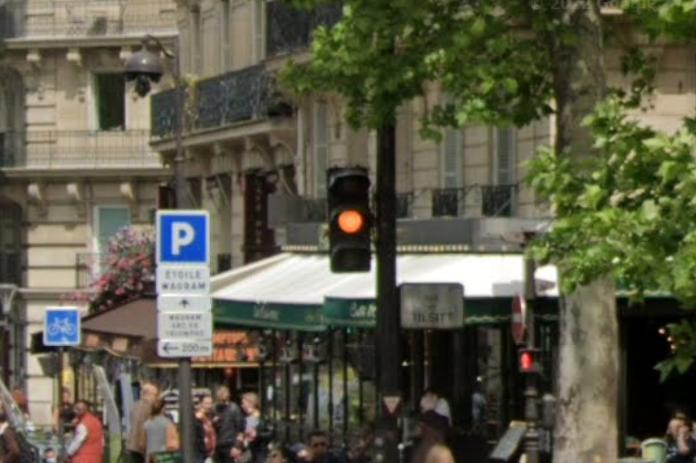yellow_light: (328, 167, 373, 273)
